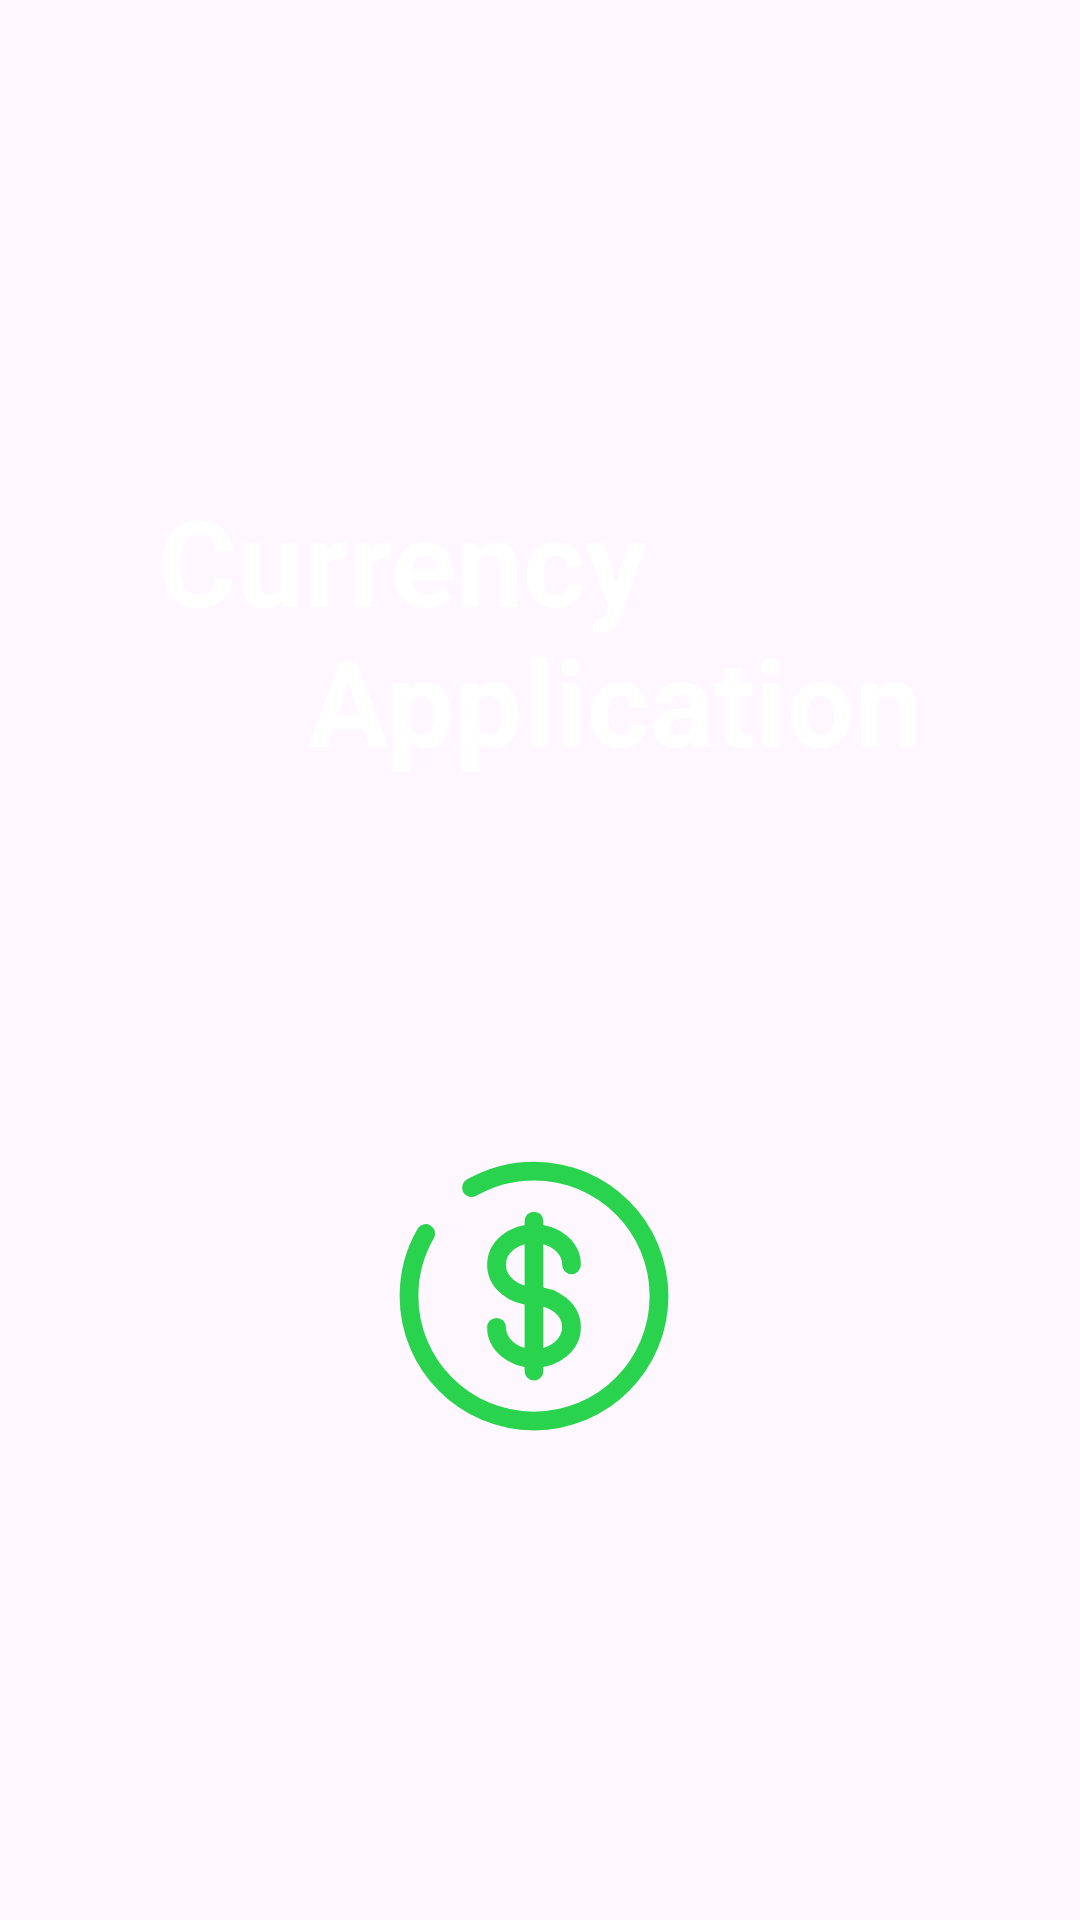

Icons on this 1080px×1920px Android screen, each with the point to tap as [x,y]:
dollar: [534,1296]
